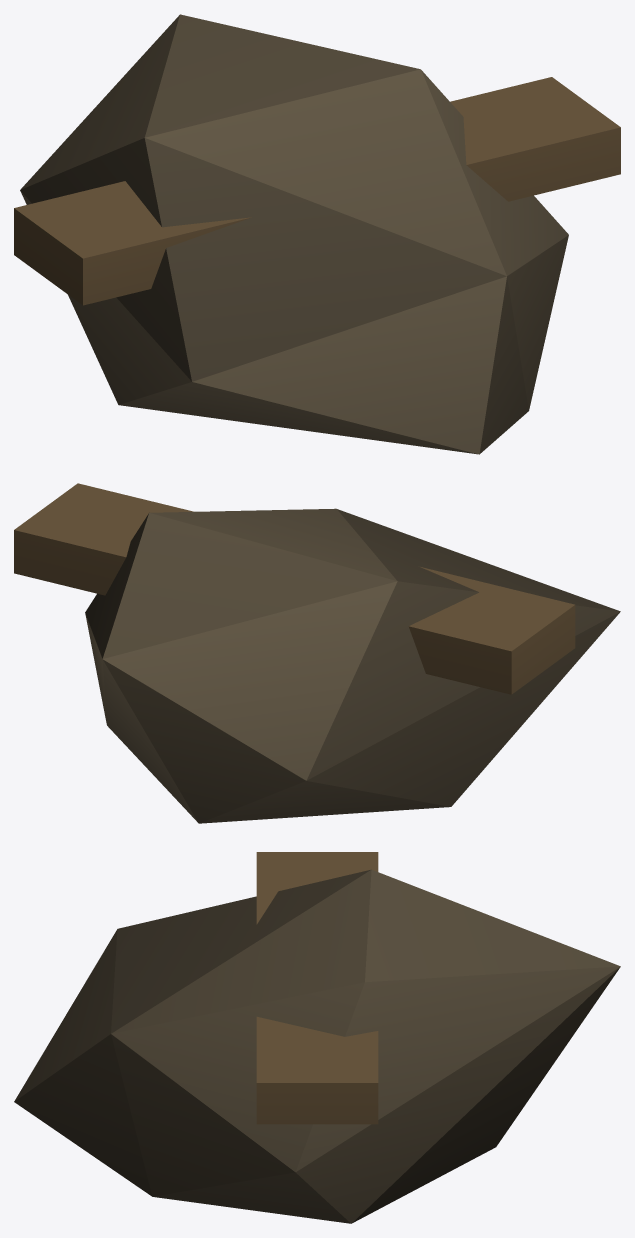
Rendered from construction-robot.glb.
The picture shows the model from 3 angles, top to bottom: view 1: azimuth 30°, elevation 25°; view 2: azimuth 150°, elevation 25°; view 3: azimuth 270°, elevation 25°; orthographic projection. The views are drawn at different scales.
Visible parts, largest first — view 1: construction-robot; view 2: construction-robot; view 3: construction-robot.
Part boxes in pixels (x1=…): construction-robot: x1=14, y1=14, x2=620, y2=454; construction-robot: x1=14, y1=483, x2=620, y2=823; construction-robot: x1=14, y1=852, x2=620, y2=1223.
Size of the model in its own units: 0.18 by 0.08 by 0.2.
